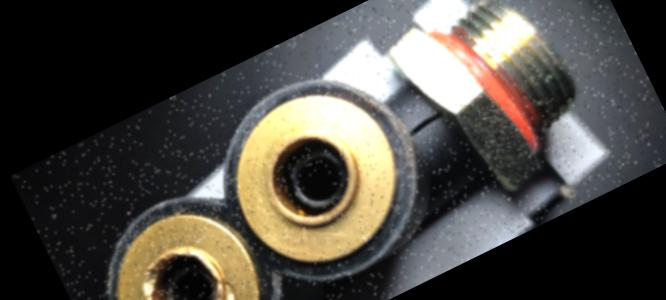craze: (406, 103, 452, 138)
